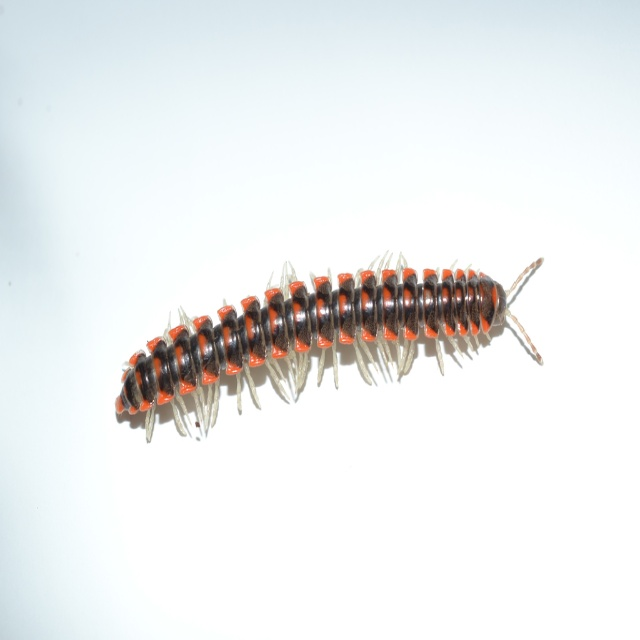Caterpillar: (115, 250, 544, 442)
